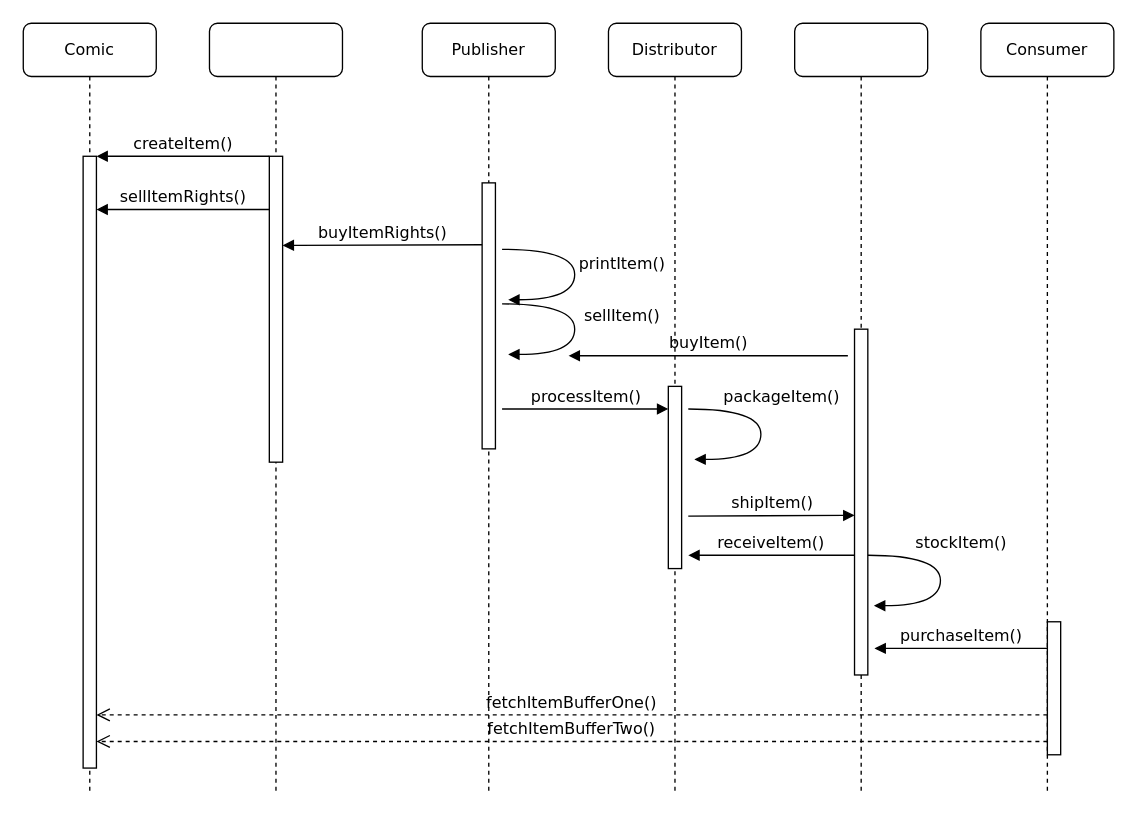
This 1137x818 diagram has some shape labels left out. The shapes that lost their labels are listed below. From the top down, each one's box as (x1, y1, x2, y2) in pixels, then its label:
(208, 22, 342, 795): Creator
(793, 22, 928, 795): Retailer
